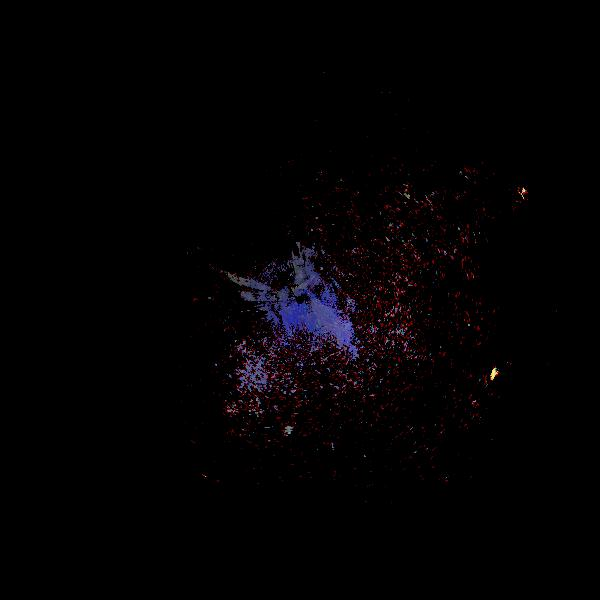roost: (285, 426, 294, 435)
